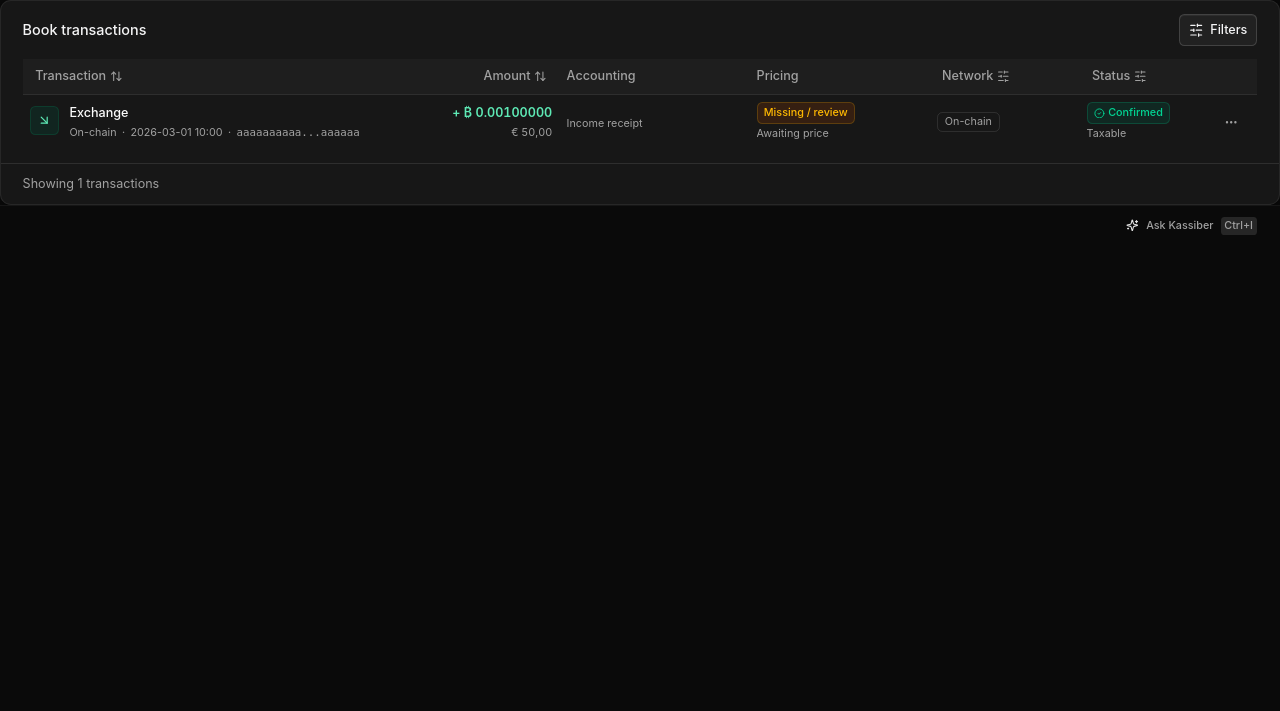
TransactionDetailSheet Ask about this › keeps the detail as a tab and leaves focus in the assistant composer
Click the row that starts with "Exchange" at (640, 122), box [23,95,1257,149]
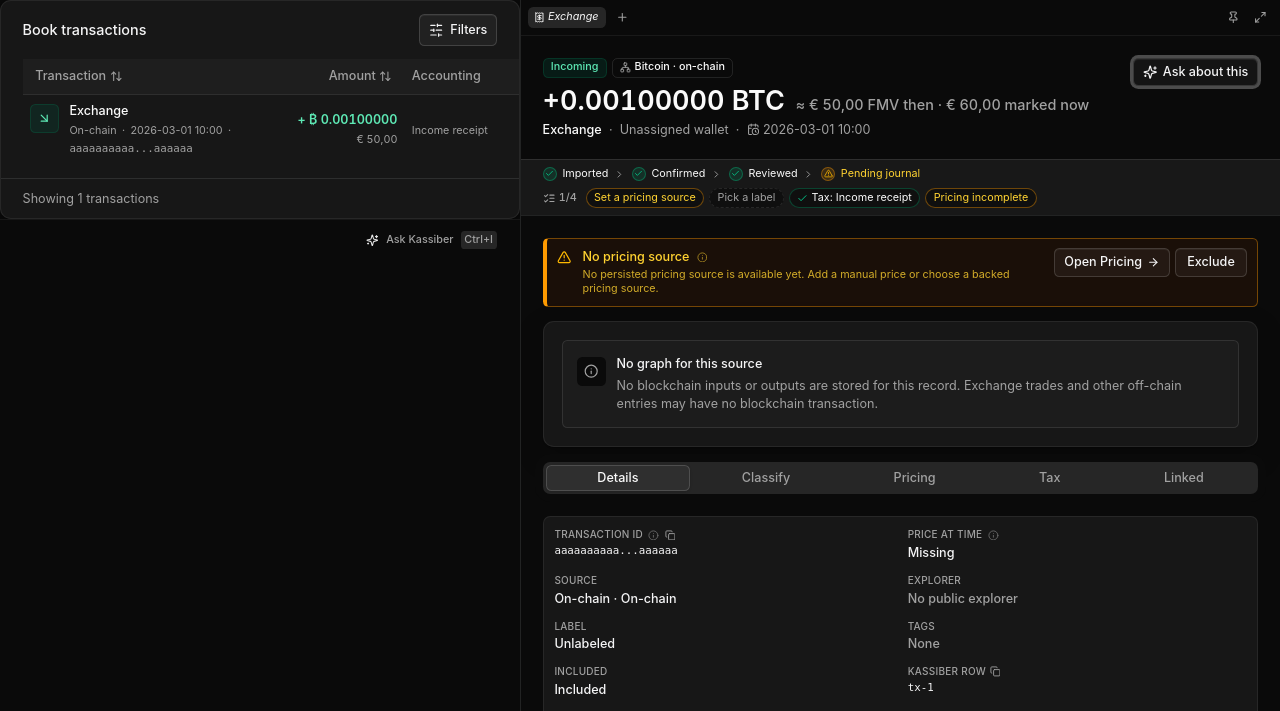
Click the button "Ask about this" at (1196, 72), box [1133,58,1258,86]
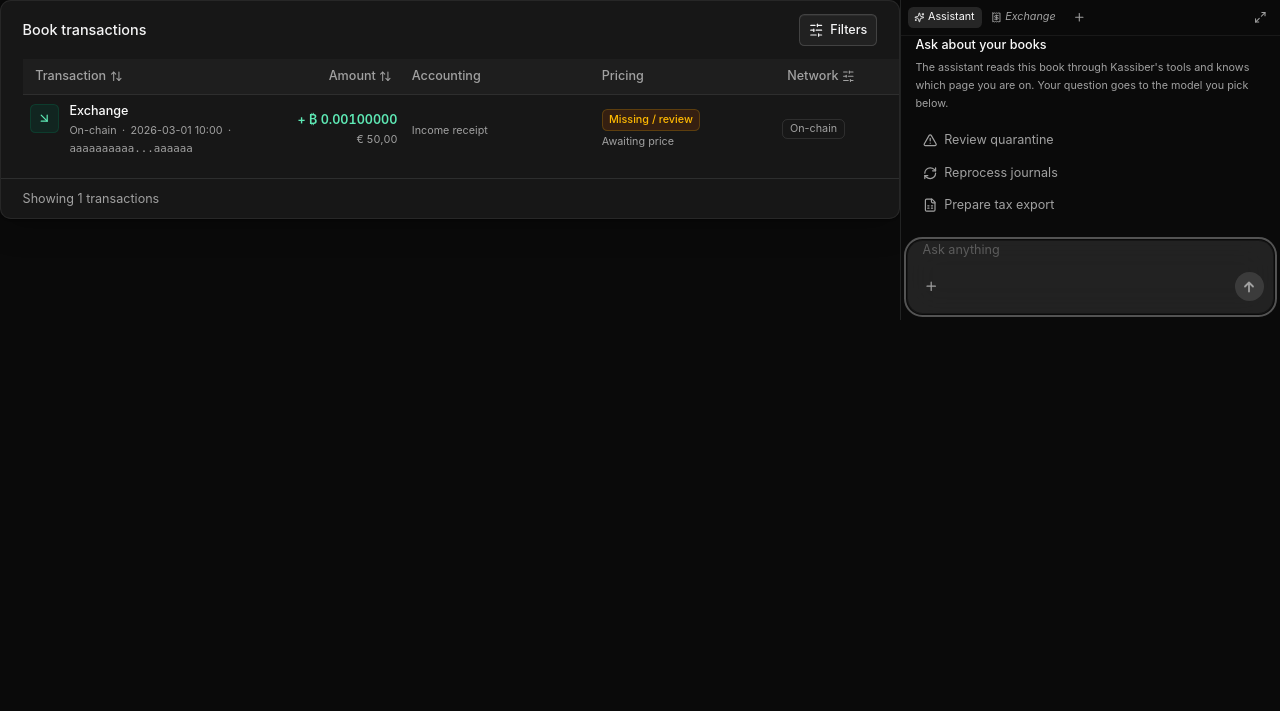
Now the tabs read "Assistant", "Exchange", in this order
# The detail is still there, one click away.
Click the tab "Exchange" at (1030, 18), box [1005,7,1056,28]
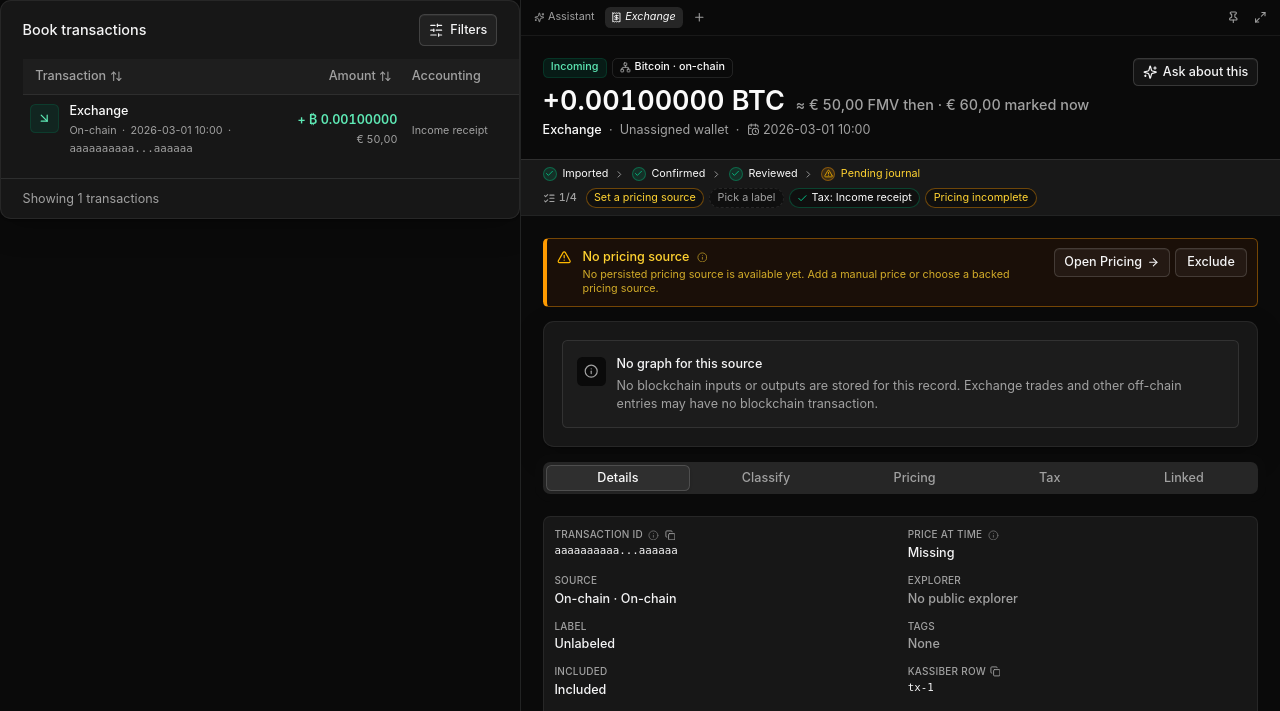
Now the button "Ask about this" is shown, box [1133,58,1258,86]
